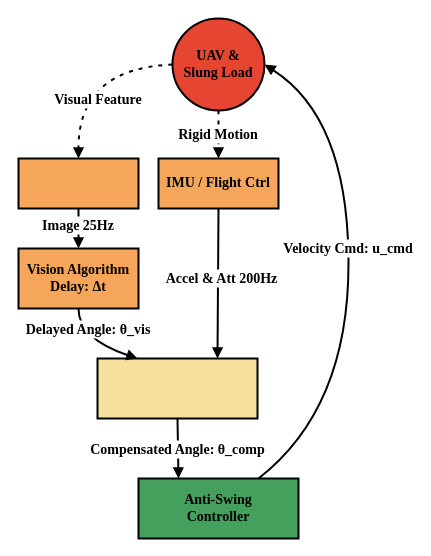
Image size: 431x556. Some labels were removed from this diagram. Each missing label, with the box of its shape:
Camera: (17, 157, 139, 209)
Forward Predictor & Fusion: (96, 357, 258, 419)
